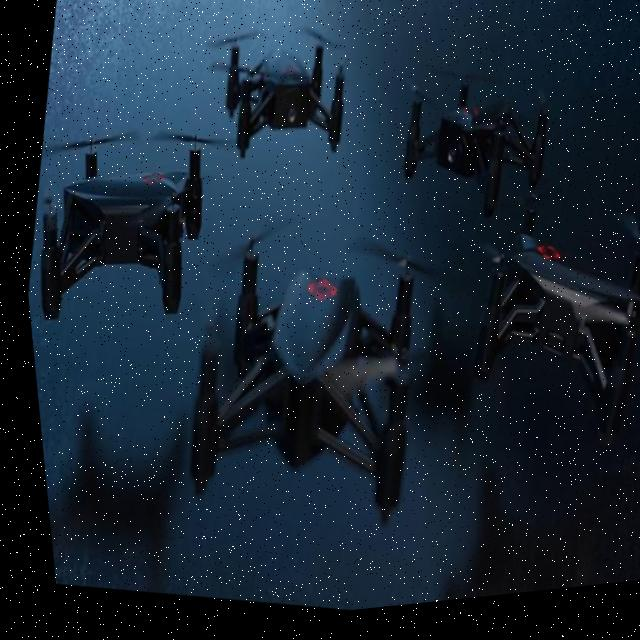drones: (140, 191, 470, 547), (422, 159, 640, 482), (8, 81, 246, 364), (353, 23, 592, 284), (168, 0, 387, 206)
